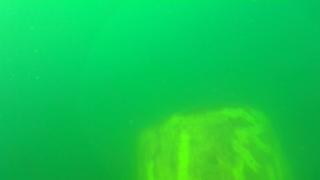pipe: (131, 106, 290, 179)
